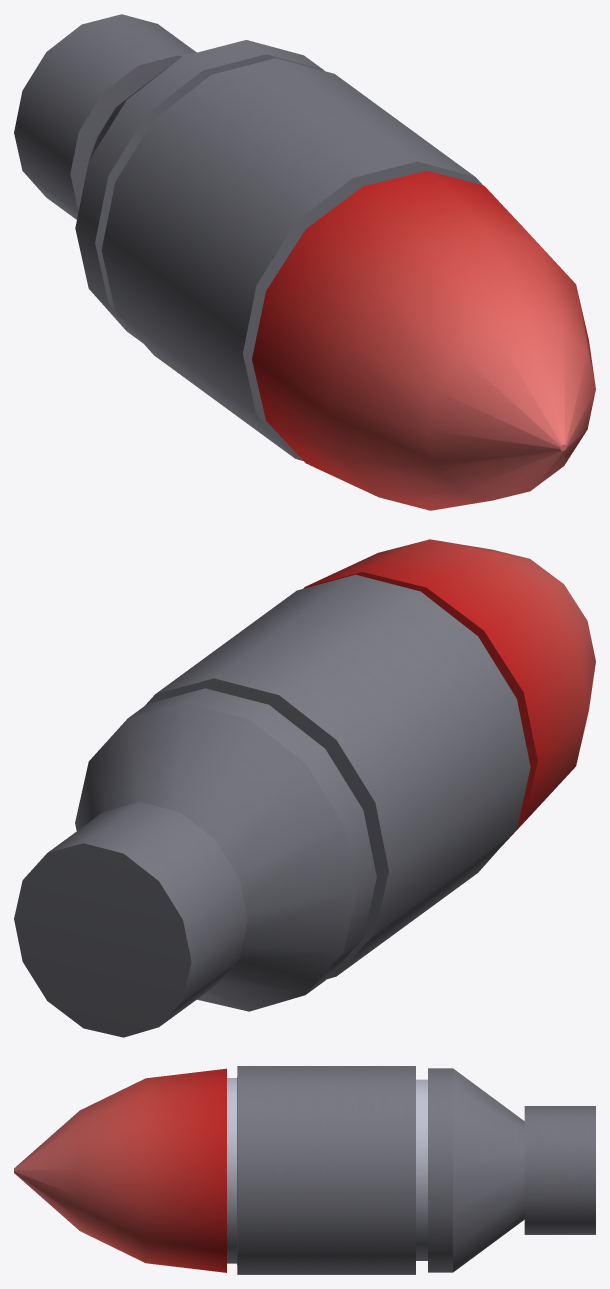
The model's file is Projectile.fbx.
3 views of the same model, one above another, from view 1: azimuth 30°, elevation 25°; view 2: azimuth 150°, elevation 25°; view 3: azimuth 270°, elevation 25° (orthographic). The views are drawn at different scales.
Visible parts, largest first — view 1: Projectile; view 2: Projectile; view 3: Projectile.
Boxes of the visible parts, bbox=[...] form: Projectile: bbox=[14, 14, 595, 510]; Projectile: bbox=[14, 539, 595, 1037]; Projectile: bbox=[14, 1066, 595, 1274].
Bounding box in the file's own units: 20.43 × 20.34 × 56.69.
